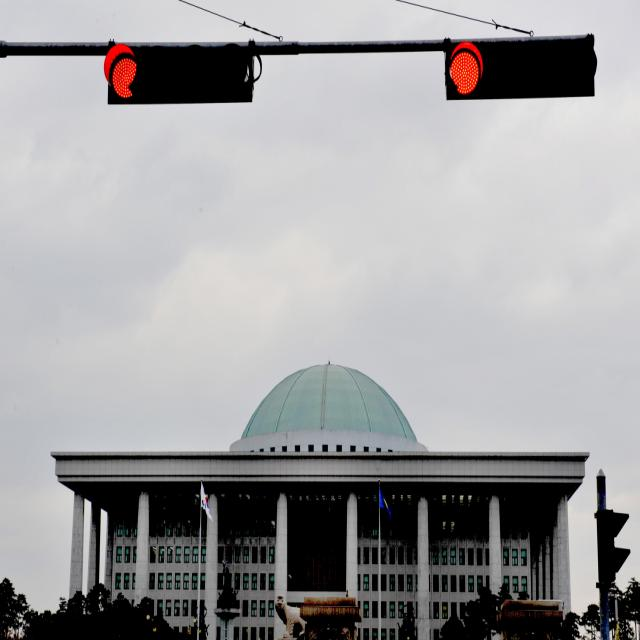red_light: (100, 30, 263, 119), (438, 36, 604, 108)
